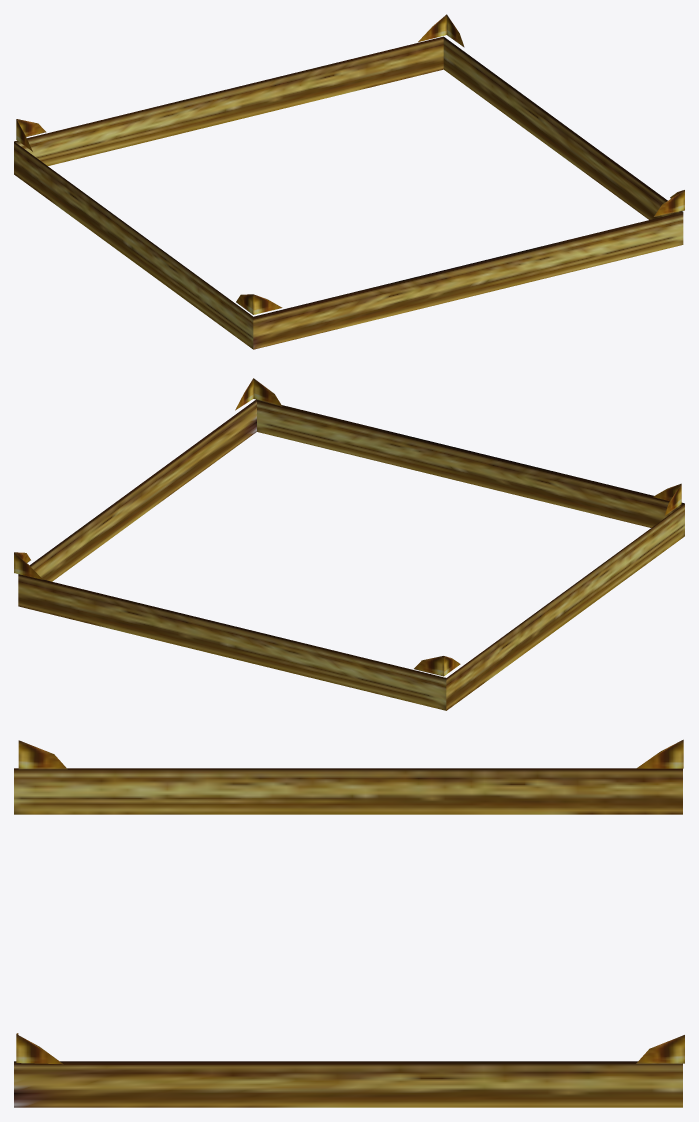
File: altargreat.glb
3 views of the same model, one above another, from view 1: azimuth 30°, elevation 25°; view 2: azimuth 150°, elevation 25°; view 3: azimuth 270°, elevation 25° (orthographic). The views are drawn at different scales.
Visible parts, largest first — view 1: Cube, fire; view 2: Cube, fire; view 3: Cube, fire.
Part boxes in pixels (x1=…): Cube: x1=14, y1=36, x2=683, y2=349; fire: x1=16, y1=14, x2=684, y2=314; Cube: x1=18, y1=399, x2=684, y2=710; fire: x1=14, y1=378, x2=681, y2=676; Cube: x1=14, y1=768, x2=682, y2=1107; fire: x1=16, y1=739, x2=684, y2=1064.
Size of the model in its own units: 0.8065 by 0.0976 by 0.7727.
Materials: 1 (1 with a texture image).
